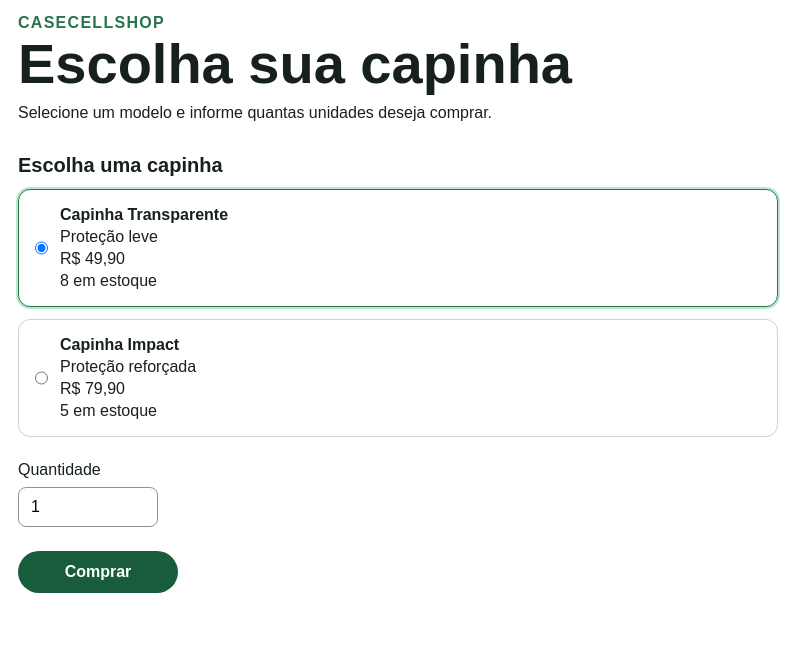
CheckoutPage › shows success, refreshes products, and resets only the quantity
Click the radio button labelled "Capinha Impact Proteção reforçada R$ 79,90 5 em estoque" at (42, 378), box [35, 336, 48, 420]
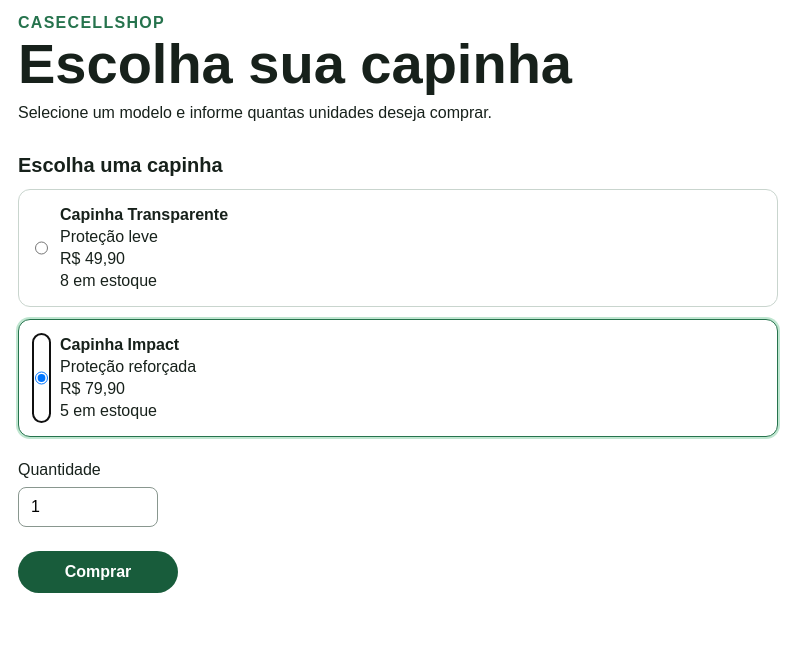
Replace the text in the number field labelled "Quantidade" with "2" at (88, 507), box [18, 487, 158, 527]
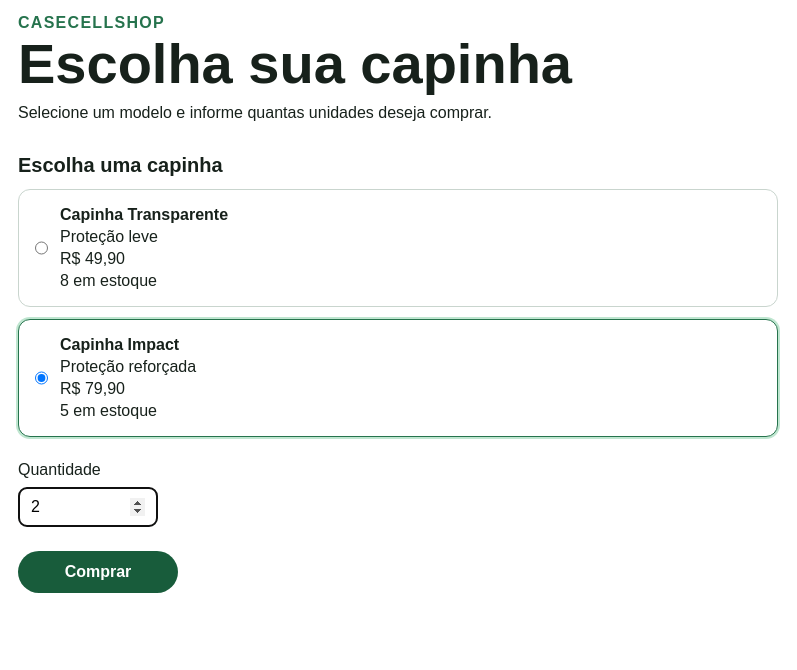
Click the button "Comprar" at (98, 572), box [18, 551, 178, 593]
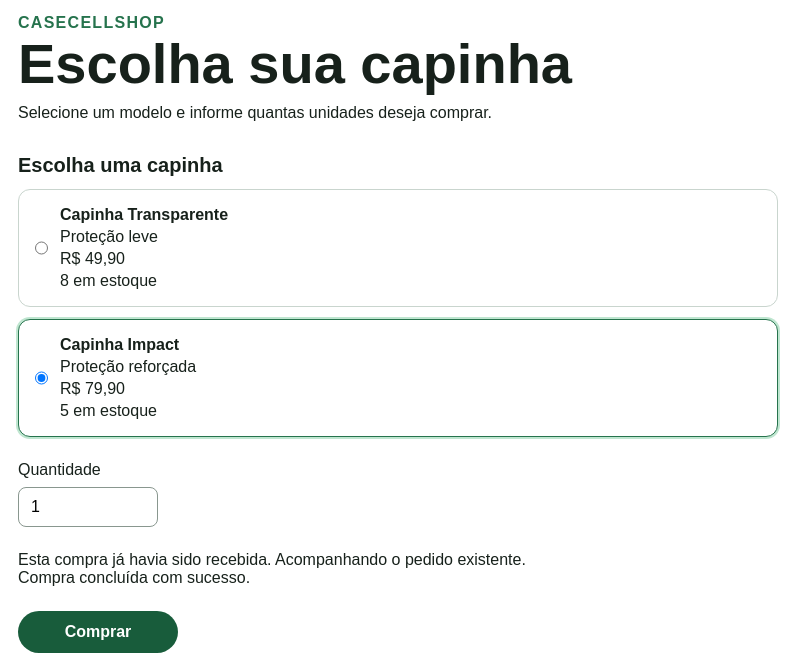
Check: the radio button labelled "Capinha Impact Proteção reforçada R$ 79,90 5 em estoque" is checked, box [35, 336, 48, 420]
Check: the message reads "Compra concluída com sucesso.", box [18, 569, 250, 586]
Check: the number field labelled "Quantidade" holds "1", box [18, 487, 158, 527]
